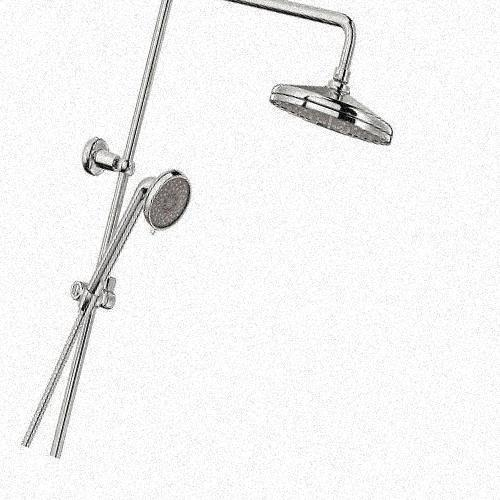Ducha: (12, 0, 369, 461)
